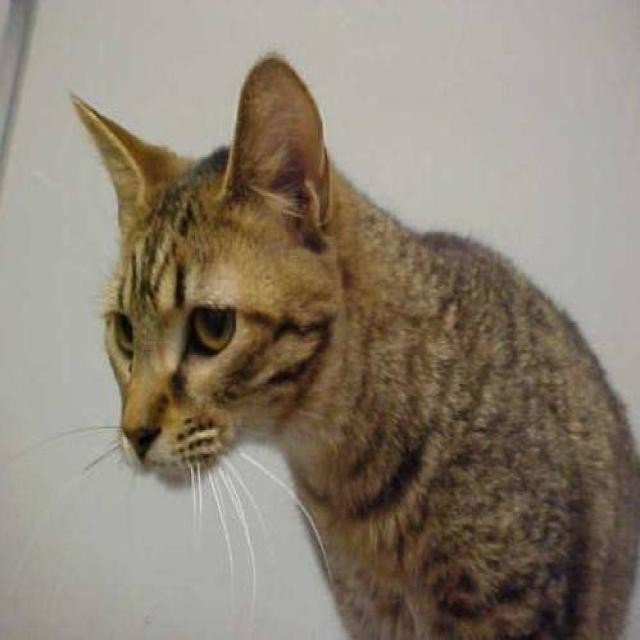cat: (68, 51, 639, 638)
